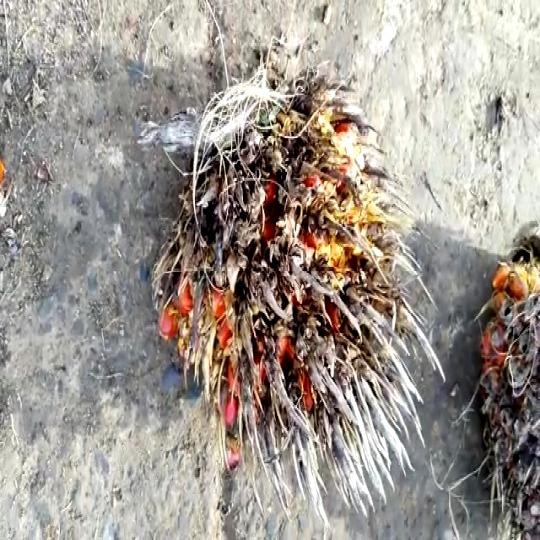terlalu masak: (138, 38, 438, 540)
